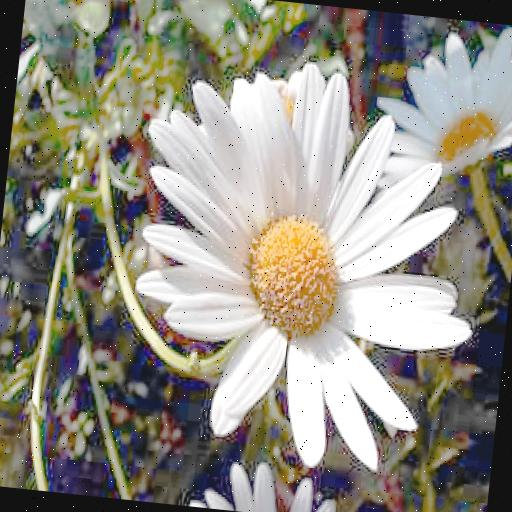daisy: (133, 69, 462, 448)
